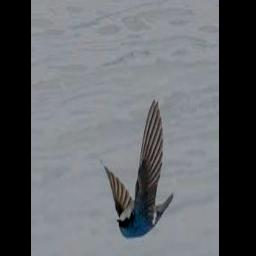Swallow: (102, 102, 174, 240)
